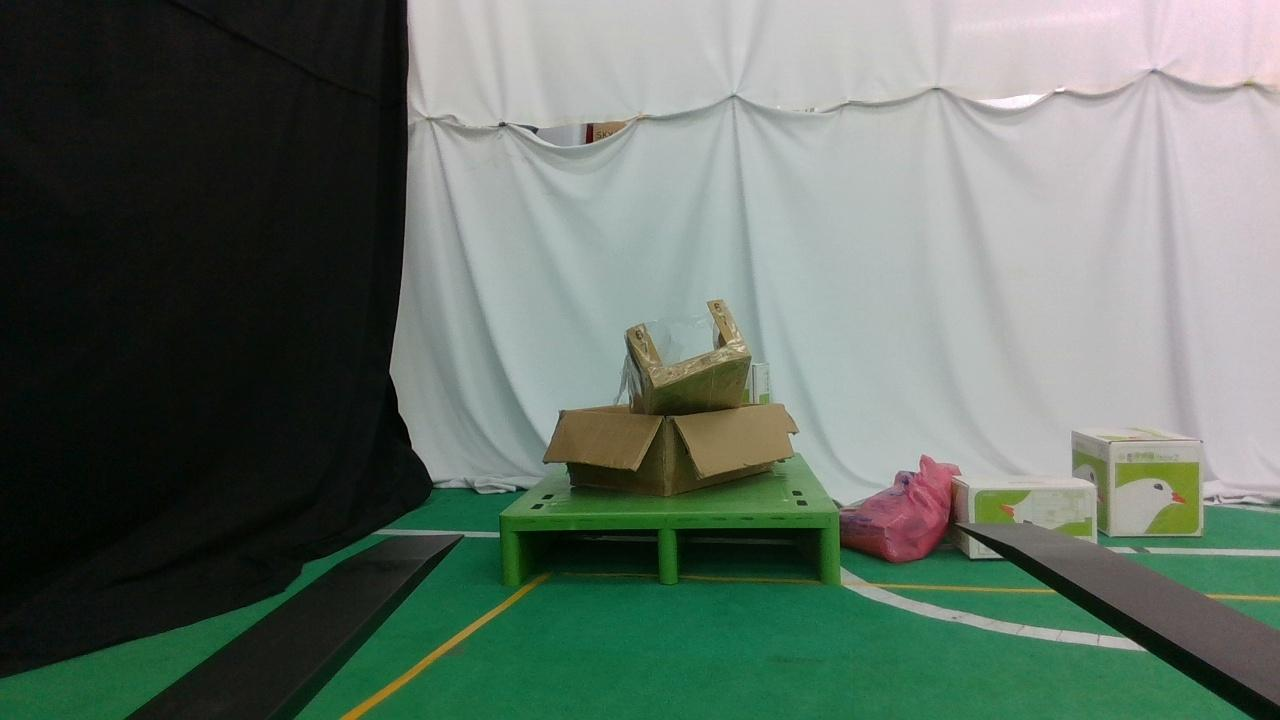Pallet: (499, 507, 840, 582)
